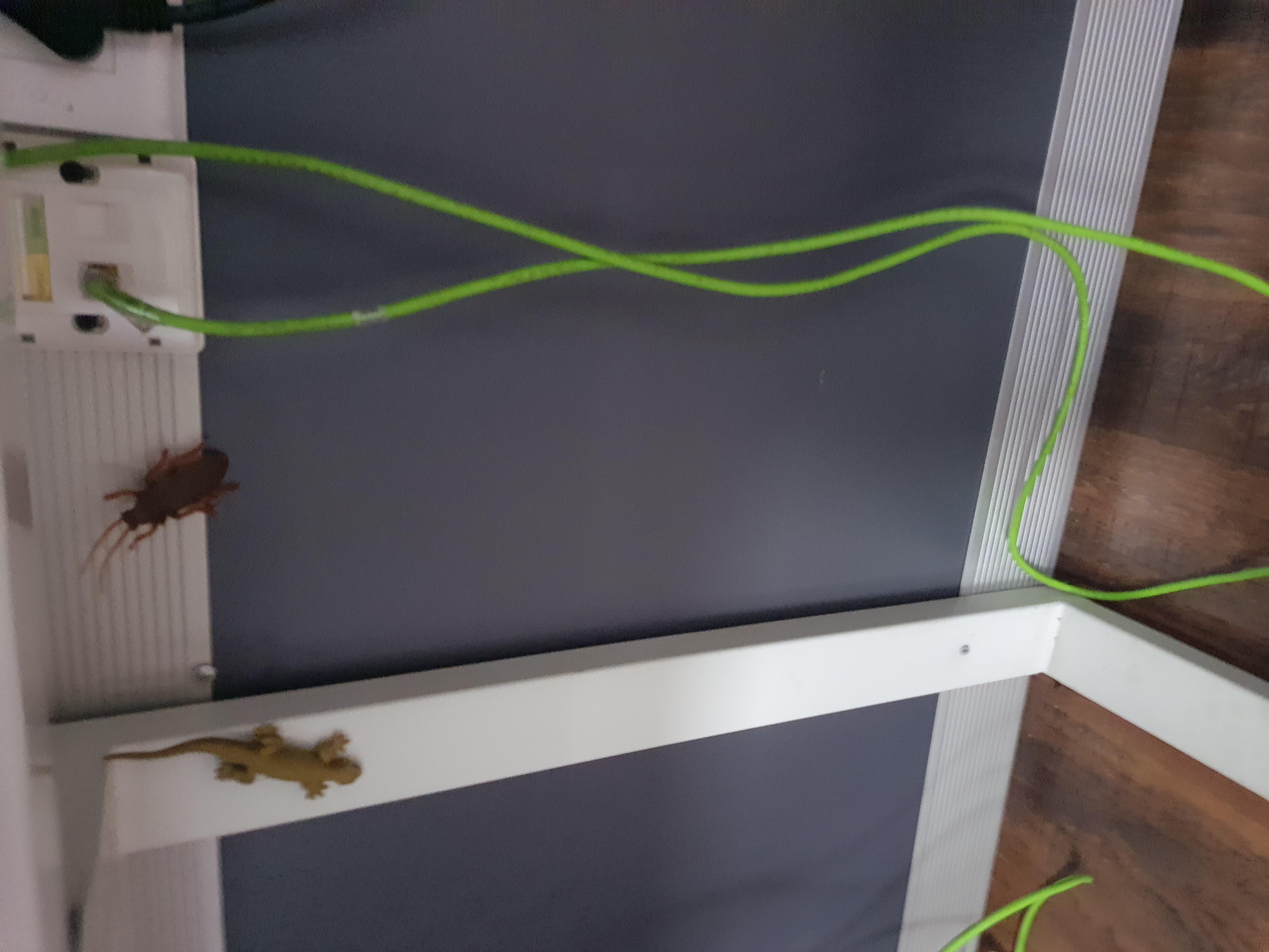cockroach: (476, 58, 709, 181)
lizard: (195, 66, 305, 280)
